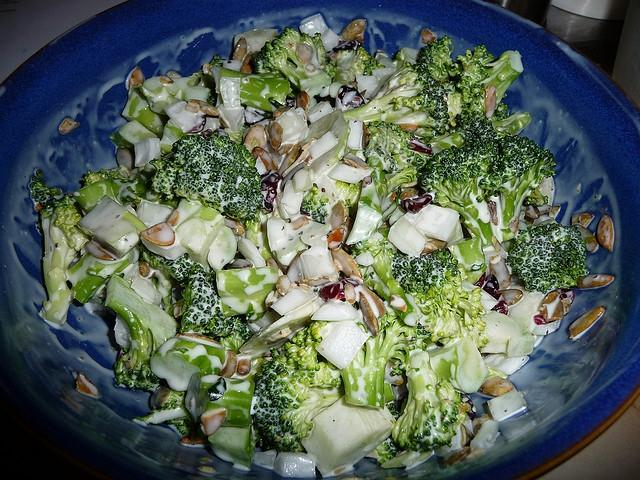almond: (331, 248, 364, 285), (568, 305, 604, 338), (358, 292, 379, 337), (140, 222, 176, 246), (200, 407, 227, 436), (242, 124, 268, 152), (478, 376, 514, 396), (253, 146, 279, 172), (339, 19, 367, 42), (597, 214, 613, 252), (75, 371, 98, 397), (218, 349, 238, 378), (85, 242, 116, 260), (576, 274, 614, 288), (268, 122, 283, 152), (498, 289, 524, 306), (420, 239, 448, 254), (232, 36, 247, 62), (485, 84, 496, 118), (328, 227, 345, 249), (128, 68, 144, 90), (296, 90, 310, 115), (572, 213, 594, 228), (60, 118, 80, 134), (140, 260, 156, 280), (540, 292, 560, 306), (421, 28, 436, 44), (237, 359, 250, 376), (396, 124, 418, 133)
broccoli: (417, 134, 558, 247), (150, 132, 264, 222), (254, 347, 346, 458), (392, 249, 488, 349), (340, 312, 431, 409), (106, 274, 180, 390), (342, 61, 450, 138), (40, 194, 92, 325), (508, 223, 590, 294), (252, 28, 332, 100), (455, 44, 524, 126), (364, 236, 416, 322), (138, 240, 194, 316), (66, 246, 140, 303), (282, 320, 342, 390), (184, 372, 255, 428), (209, 66, 292, 112), (178, 269, 234, 337), (216, 266, 284, 320), (322, 46, 386, 84), (416, 35, 464, 82), (426, 378, 462, 434), (127, 88, 163, 136), (449, 111, 498, 146), (366, 121, 416, 155), (72, 180, 121, 214), (137, 84, 186, 116), (108, 120, 158, 148), (29, 169, 62, 207), (132, 405, 194, 425), (300, 187, 330, 224), (387, 166, 416, 196), (373, 436, 404, 464), (392, 149, 429, 171)
onion: (301, 395, 397, 475), (77, 194, 148, 258), (316, 320, 368, 370), (412, 204, 461, 242), (300, 246, 340, 286), (387, 216, 427, 255), (163, 98, 204, 134), (270, 286, 318, 316), (529, 294, 562, 335), (208, 226, 237, 272), (487, 389, 527, 422), (462, 278, 498, 310), (274, 107, 304, 143), (311, 300, 359, 321), (274, 452, 314, 477), (137, 201, 174, 228), (328, 164, 373, 184), (238, 237, 266, 268), (219, 102, 246, 132), (134, 138, 161, 168), (130, 272, 156, 303), (306, 132, 336, 158), (282, 181, 302, 218), (507, 332, 534, 358), (267, 217, 287, 252), (114, 313, 132, 350), (219, 77, 241, 107), (306, 102, 334, 125), (299, 16, 328, 38), (292, 166, 314, 194), (301, 227, 328, 248), (538, 176, 554, 205), (320, 29, 340, 52), (347, 120, 362, 150), (256, 449, 276, 466), (356, 74, 382, 84), (372, 66, 398, 76), (384, 240, 398, 253), (358, 129, 364, 150)
